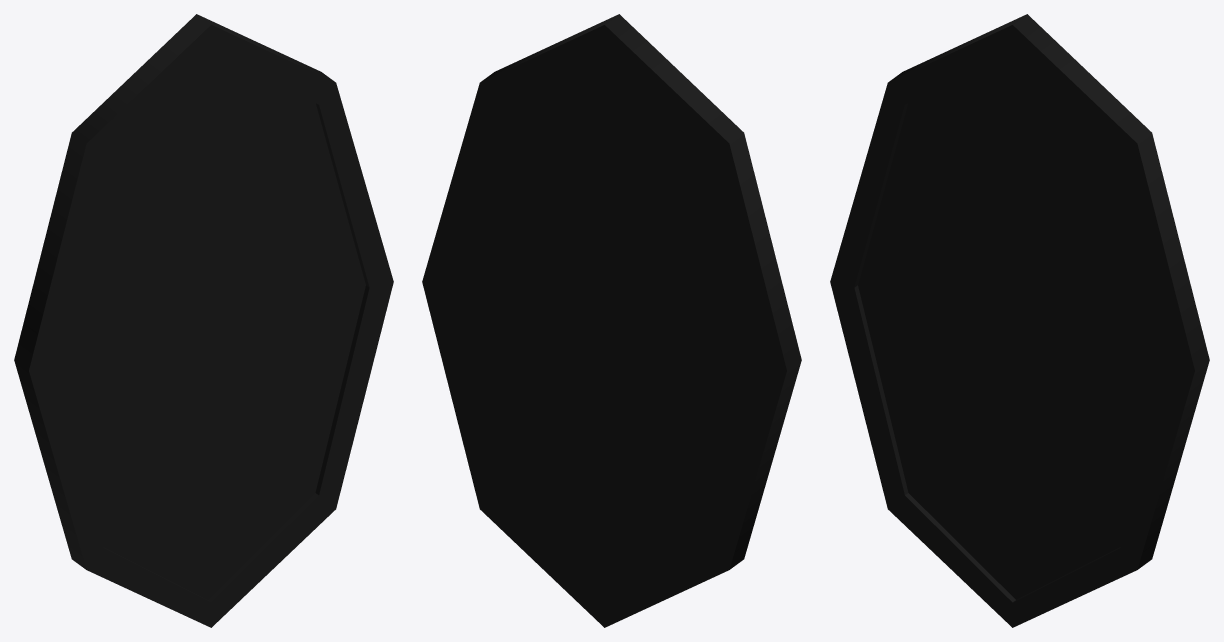
Rendered from Itr_Obj_Frame3_02.FBX.
The picture shows the model from 3 angles, left to right: view 1: azimuth 30°, elevation 25°; view 2: azimuth 150°, elevation 25°; view 3: azimuth 330°, elevation 25°; orthographic projection.
Visible parts, largest first — view 1: Itr_Obj_Frame3_02; view 2: Itr_Obj_Frame3_02; view 3: Itr_Obj_Frame3_02.
Boxes of the visible parts, x1,y1,x2,y2 form: Itr_Obj_Frame3_02: [14, 14, 393, 627]; Itr_Obj_Frame3_02: [422, 14, 801, 627]; Itr_Obj_Frame3_02: [830, 14, 1209, 627].
Size of the model in its own units: 33.22 by 52.47 by 2.32.
